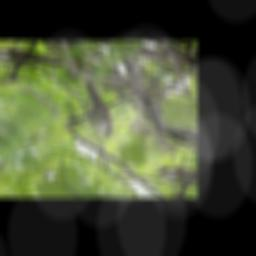Cuckoo: (55, 77, 140, 142)
